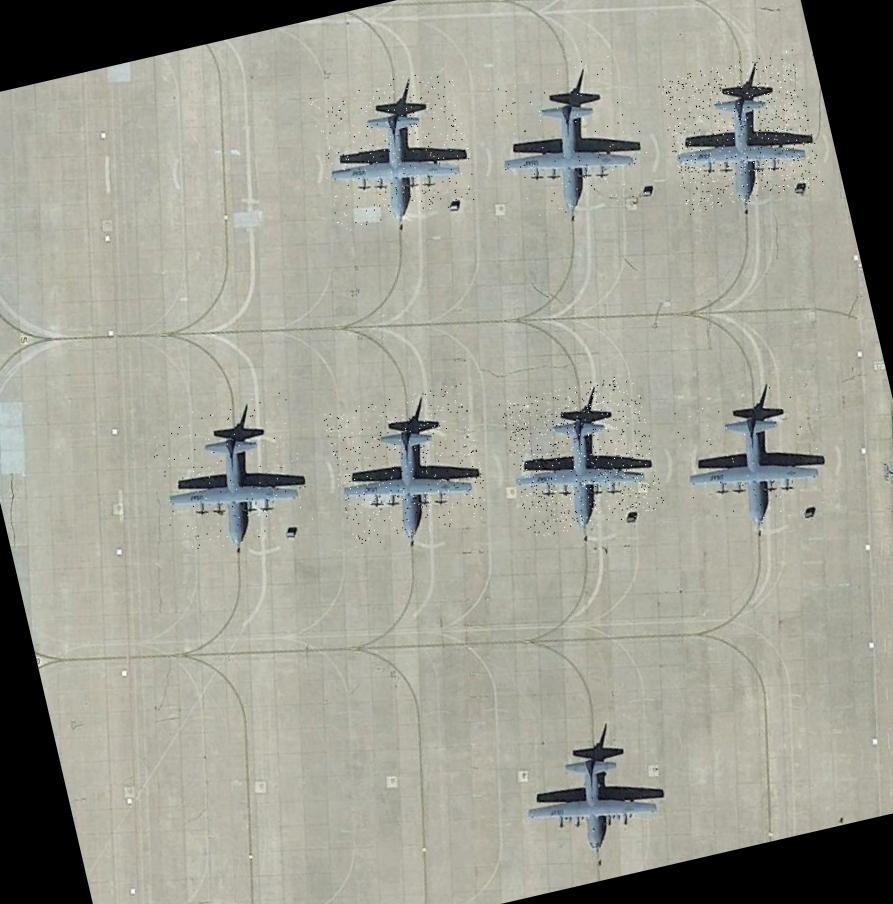A2: (484, 51, 656, 223), (670, 371, 842, 541), (146, 389, 317, 558), (321, 382, 492, 550), (308, 66, 480, 233), (499, 370, 666, 540), (656, 49, 825, 216), (507, 710, 676, 869)
